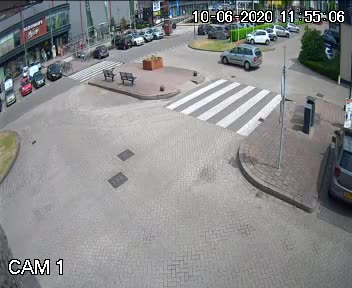car: (213, 39, 267, 73)
